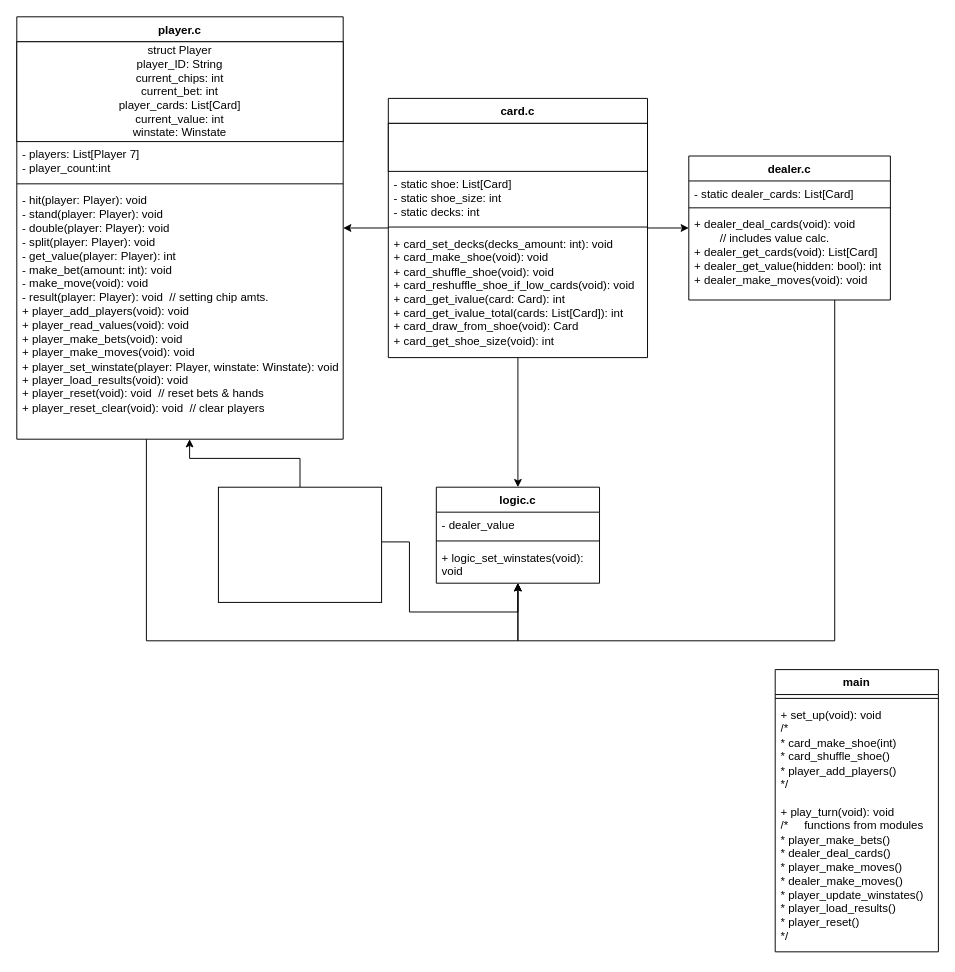
Image size: 955x972. Some labels were removed from this diagram. Each missing label, with the centre of its shape:
game_state.h enum Winstate NONE, WIN, LOSE, PUSH, DOUBLE, BLACKJACK: the point at 299,544
Struct Card value: int suit: char: the point at 517,146
